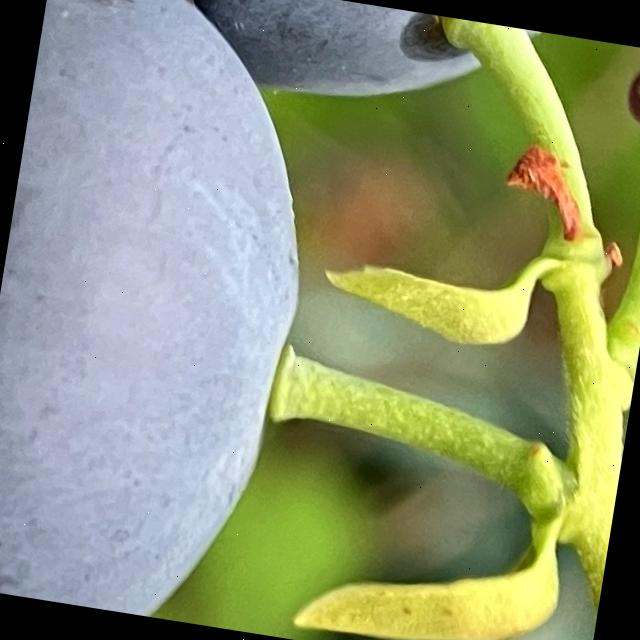Blueberries: (0, 0, 353, 633)
